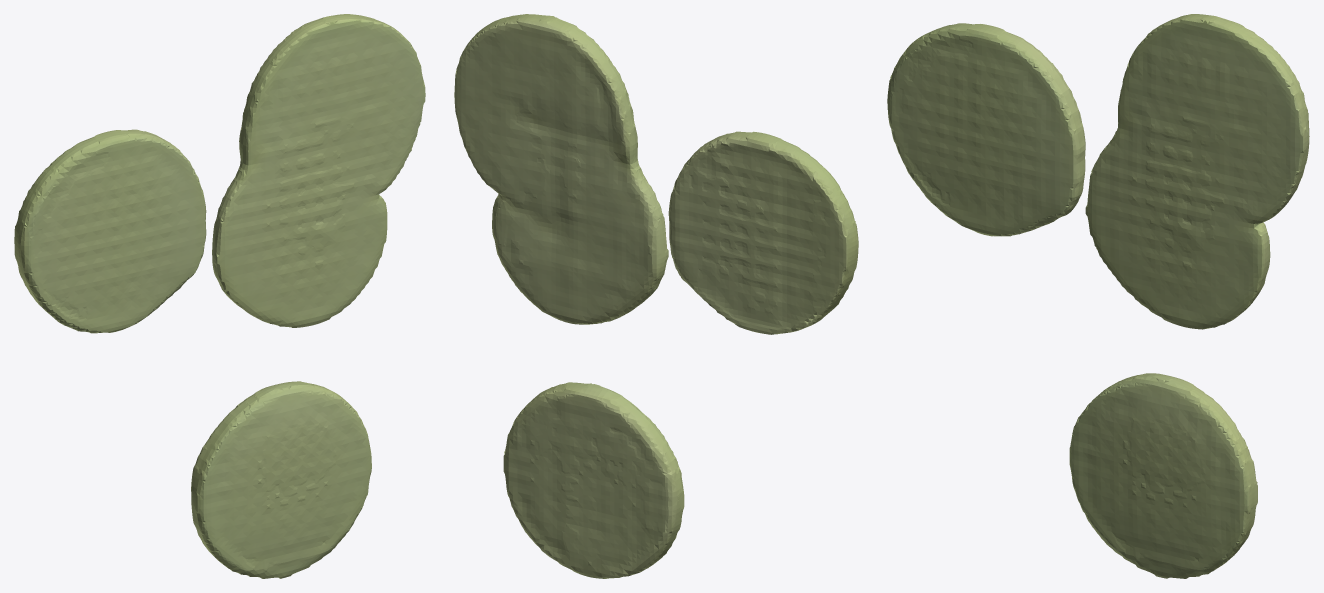
The model's file is pickle.glb.
3 renders of one model, left to right at view 1: azimuth 30°, elevation 25°; view 2: azimuth 150°, elevation 25°; view 3: azimuth 330°, elevation 25°, orthographic. The views are drawn at different scales.
Visible parts, largest first — view 1: geometry_0; view 2: geometry_0; view 3: geometry_0.
Boxes of the visible parts, left/top/right/bottom form: geometry_0: left=14, top=14, right=425, bottom=578; geometry_0: left=454, top=14, right=858, bottom=578; geometry_0: left=887, top=14, right=1309, bottom=578.
Size of the model in its own units: 1.49 by 1.94 by 0.1046.
